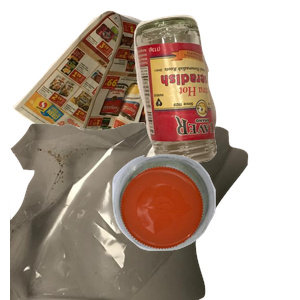glass: (131, 12, 300, 170)
paper: (10, 10, 217, 189)
plastic: (110, 152, 300, 300)
trash: (10, 120, 250, 300)
